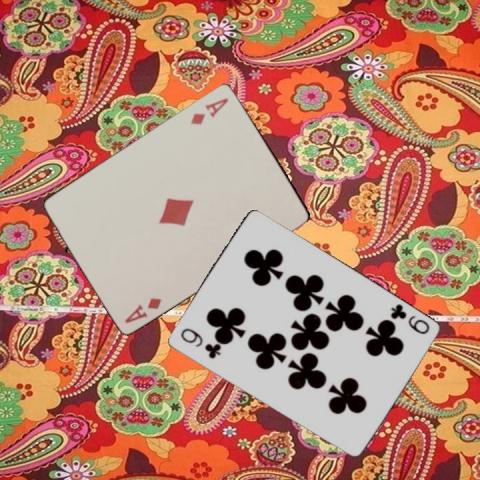9c: (177, 325, 222, 361), (387, 301, 430, 336)
Ad: (187, 94, 230, 126), (122, 294, 163, 325)
